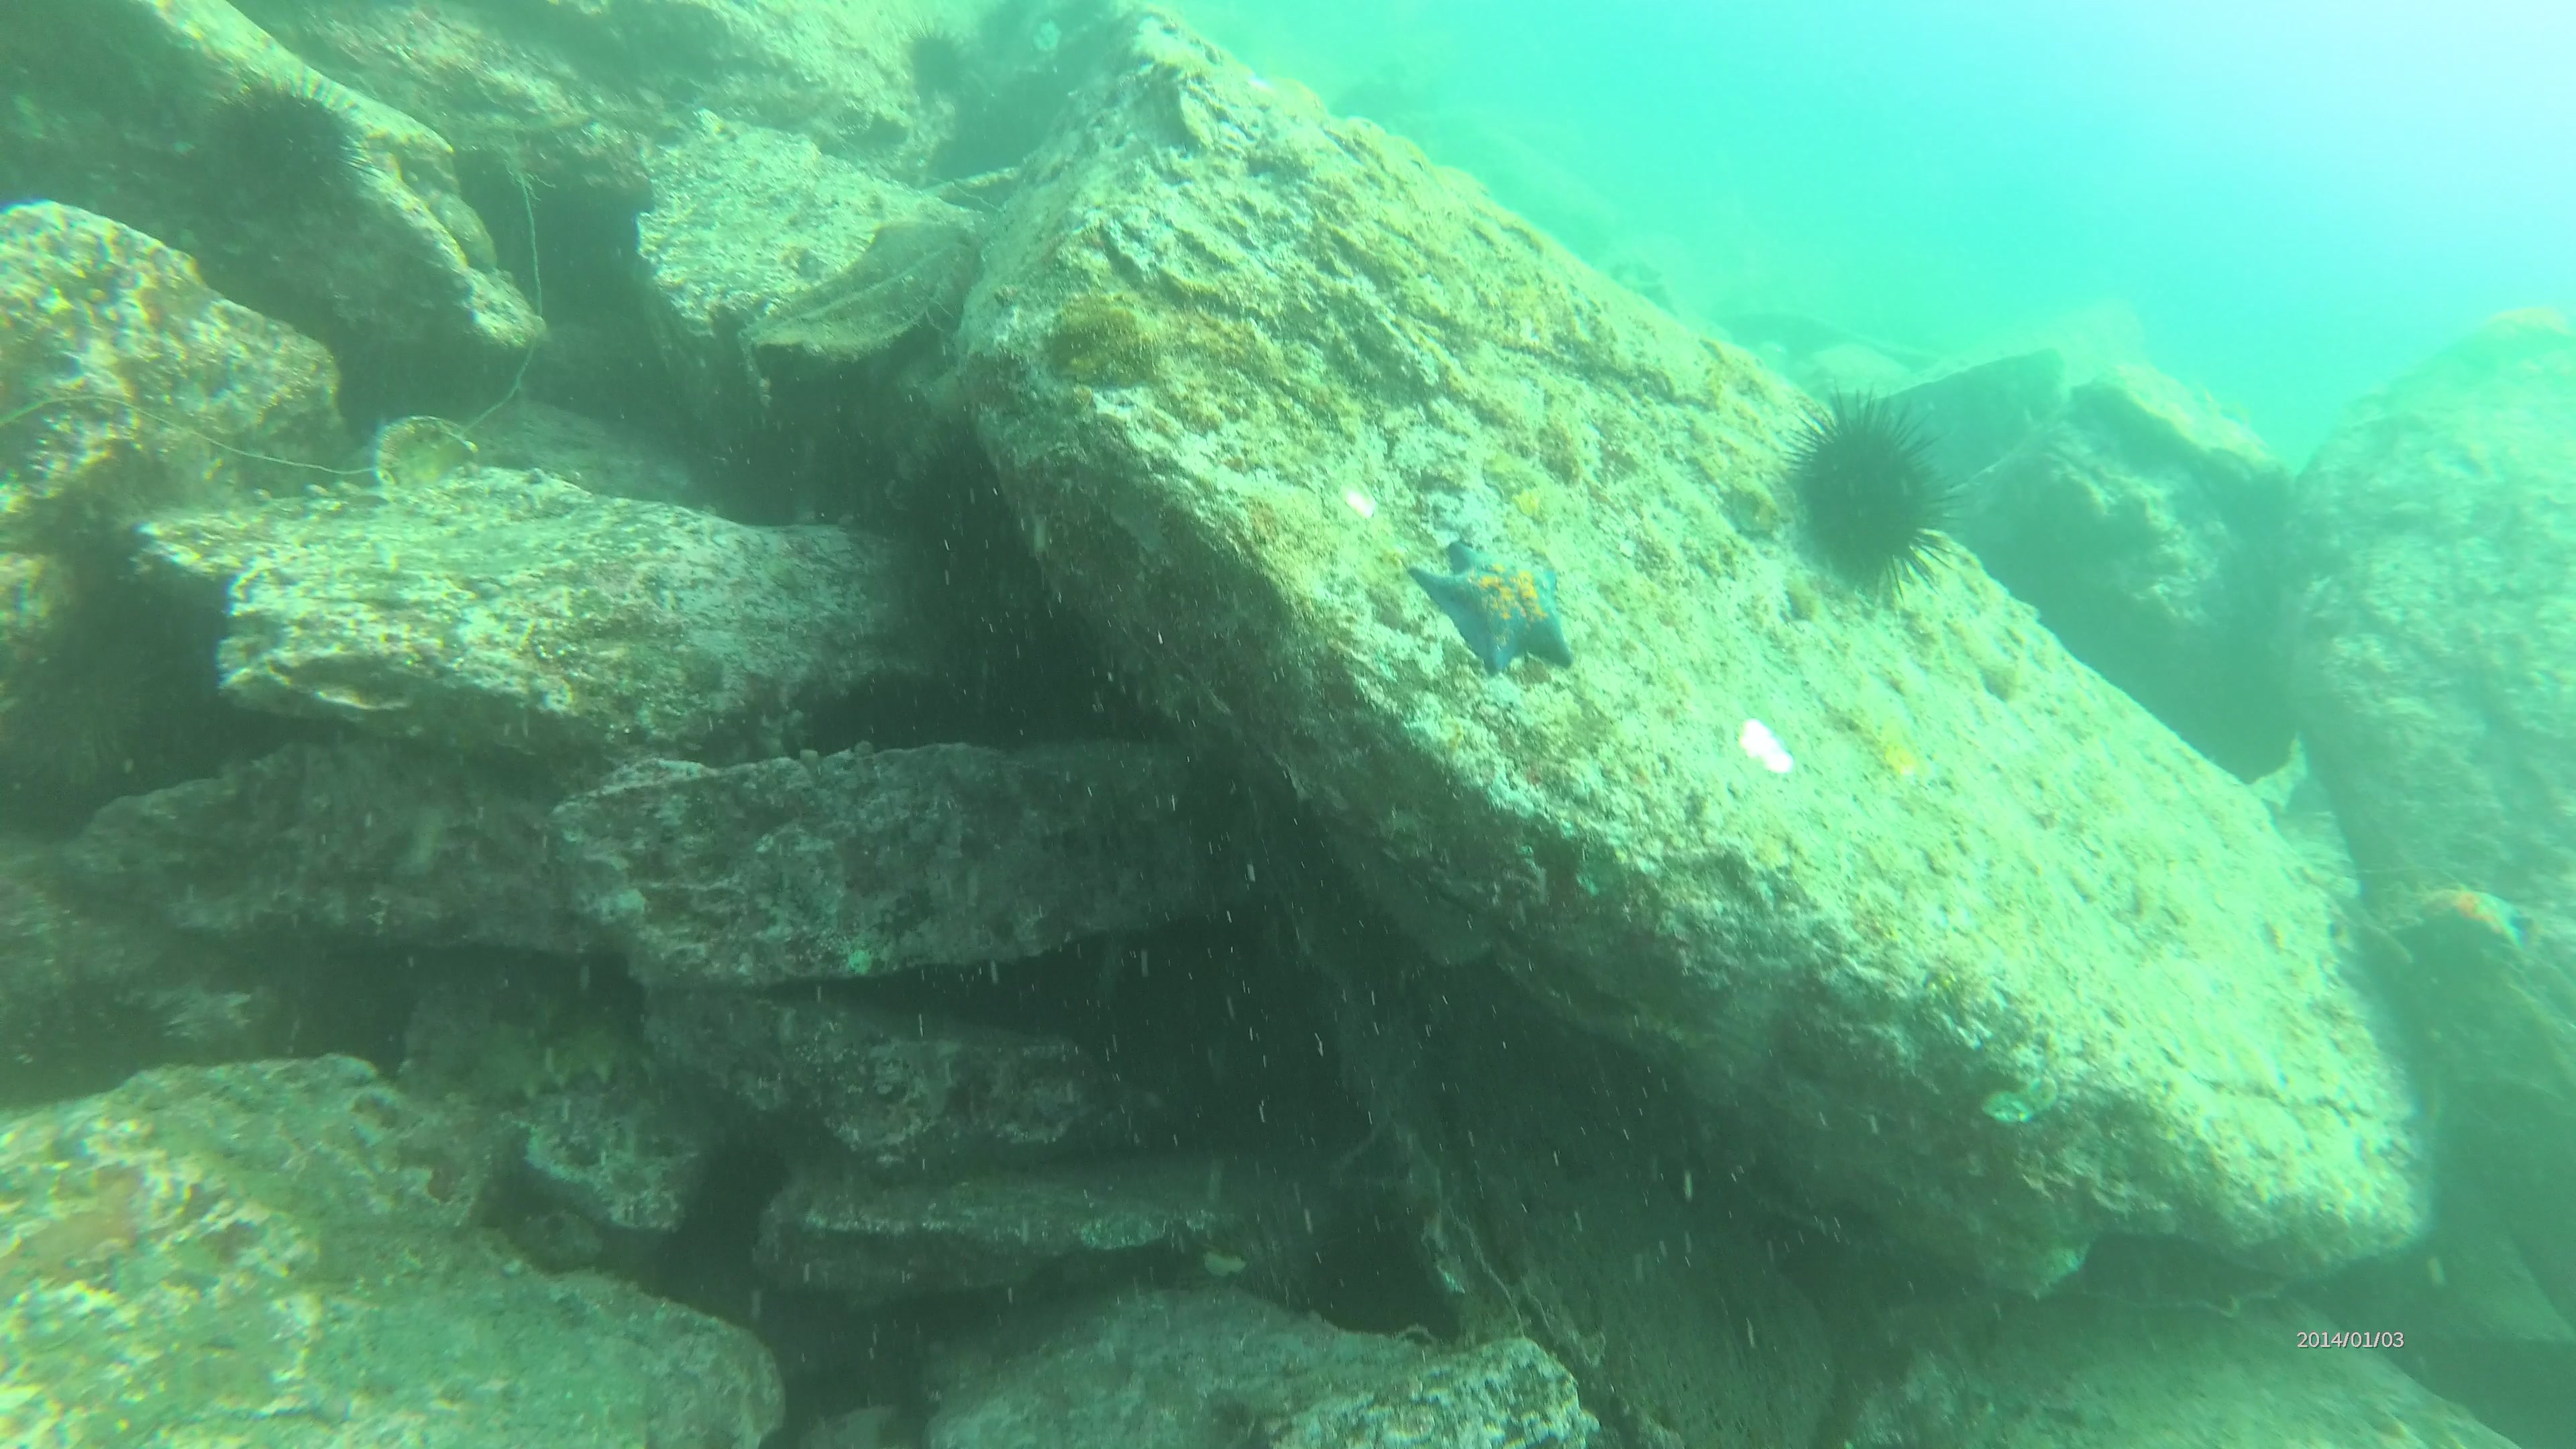echinus: (1785, 382, 1962, 610), (219, 69, 377, 212), (895, 19, 985, 103)
starfish: (1407, 527, 1587, 681), (2410, 863, 2526, 961)
